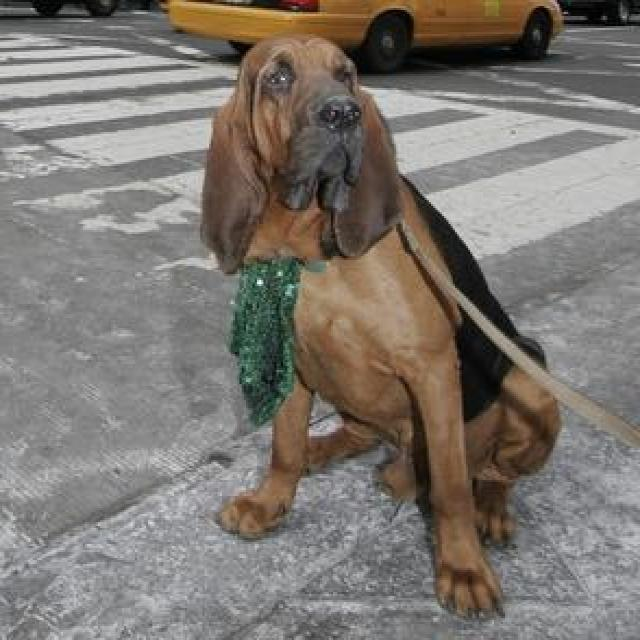bloodhound: (209, 34, 564, 616)
